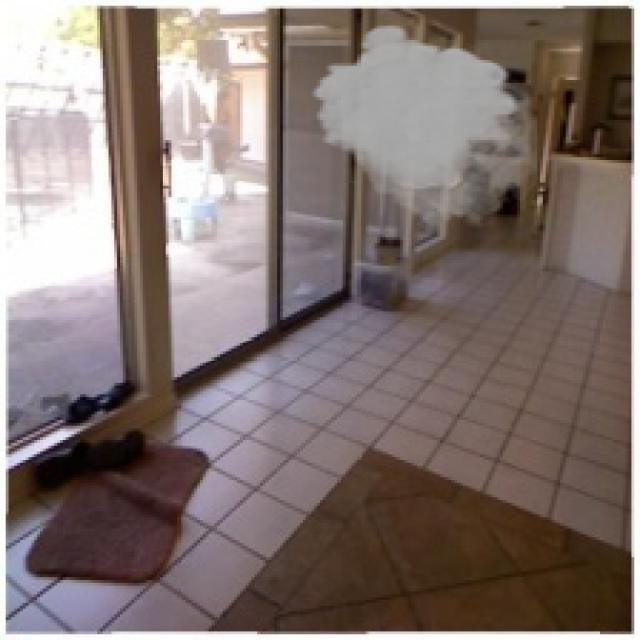smoke: (309, 23, 537, 234)
